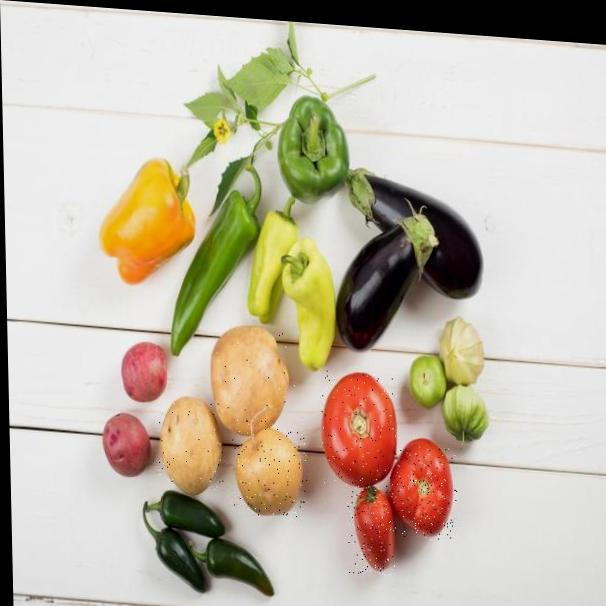Potato: (209, 321, 296, 443), (232, 418, 308, 519), (152, 396, 225, 492)
Tomato: (321, 368, 400, 489), (389, 444, 458, 542), (347, 485, 396, 576)
